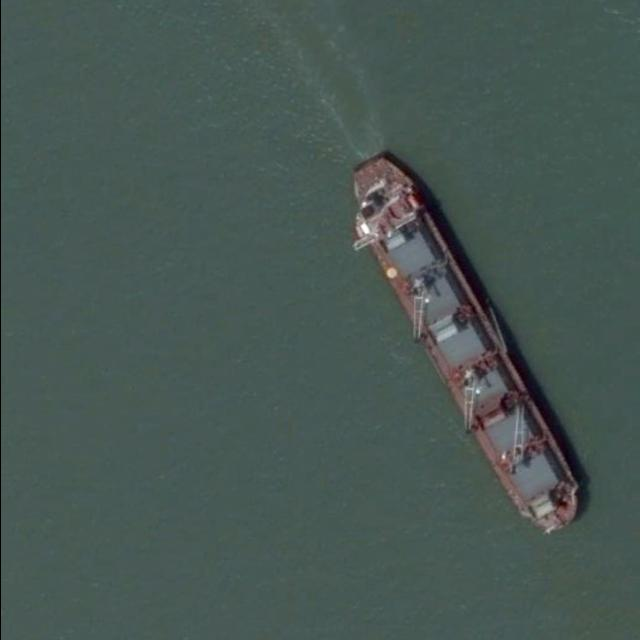ship: (350, 154, 580, 535)
